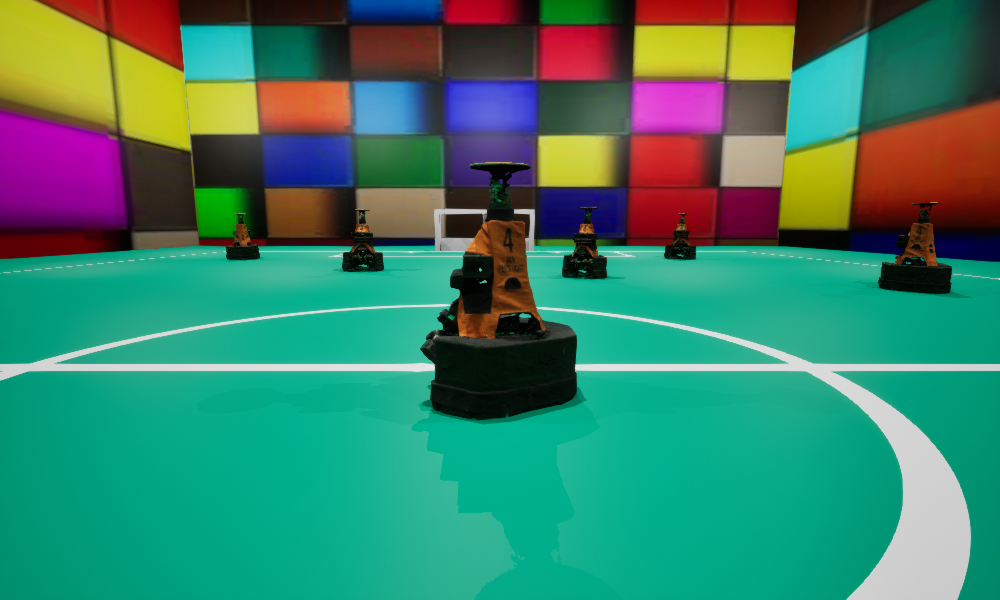0 orange robot TechUnited: (420, 162, 576, 418), (878, 202, 951, 293), (562, 207, 606, 277), (342, 209, 383, 271), (226, 213, 259, 259), (664, 213, 695, 258)
